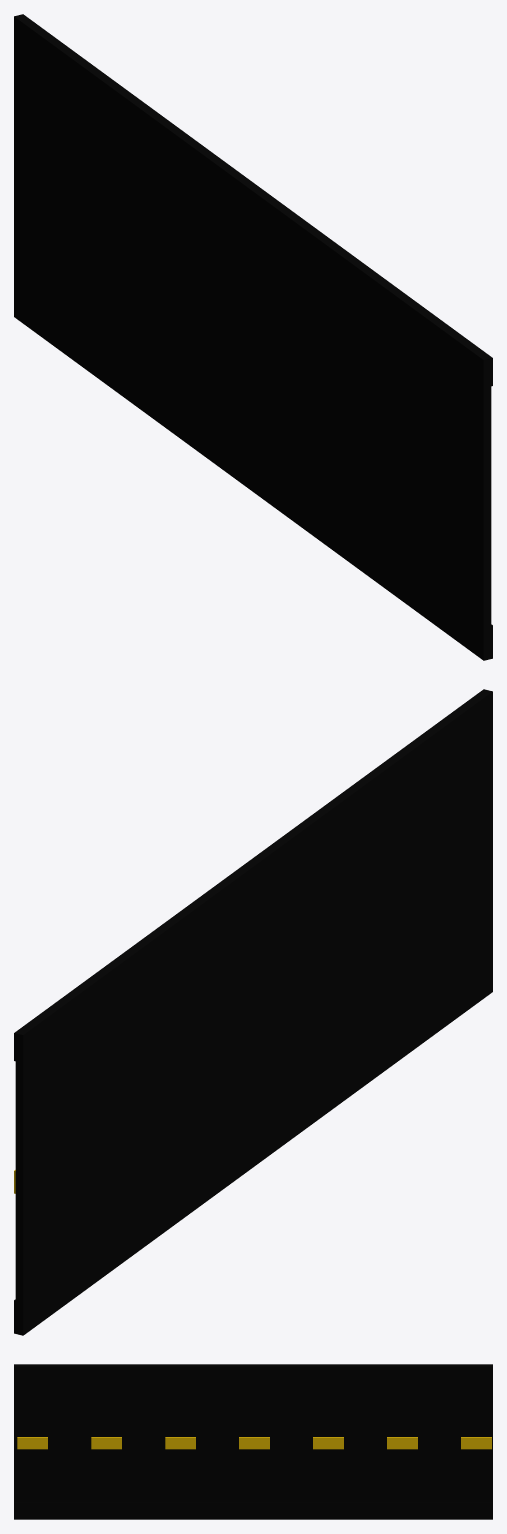
File: Road.fbx
3 views of the same model, one above another, from view 1: azimuth 30°, elevation 25°; view 2: azimuth 150°, elevation 25°; view 3: azimuth 270°, elevation 25° (orthographic). The views are drawn at different scales.
Visible parts, largest first — view 1: Cube.001; view 2: Cube.001; view 3: Cube.001.
Boxes of the visible parts, left/top/right/bottom form: Cube.001: left=14, top=14, right=492, bottom=660; Cube.001: left=14, top=689, right=492, bottom=1335; Cube.001: left=14, top=1364, right=492, bottom=1519.
Size of the model in its own units: 23.41 by 646 by 1829.
